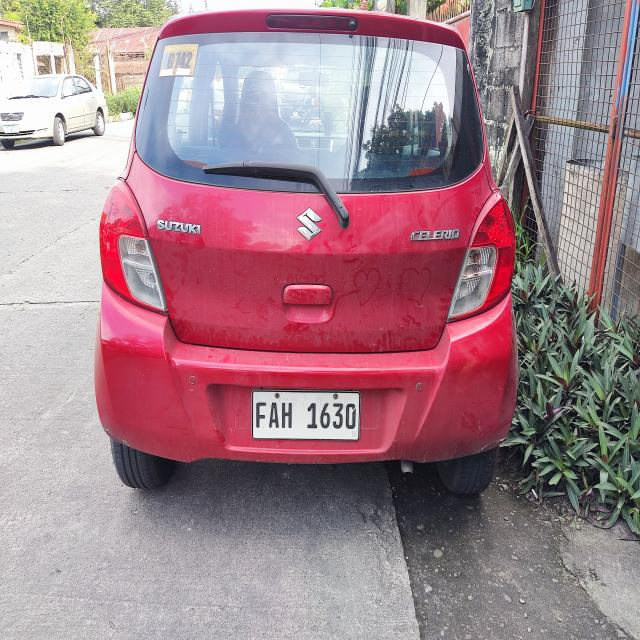plate: (250, 388, 362, 442)
